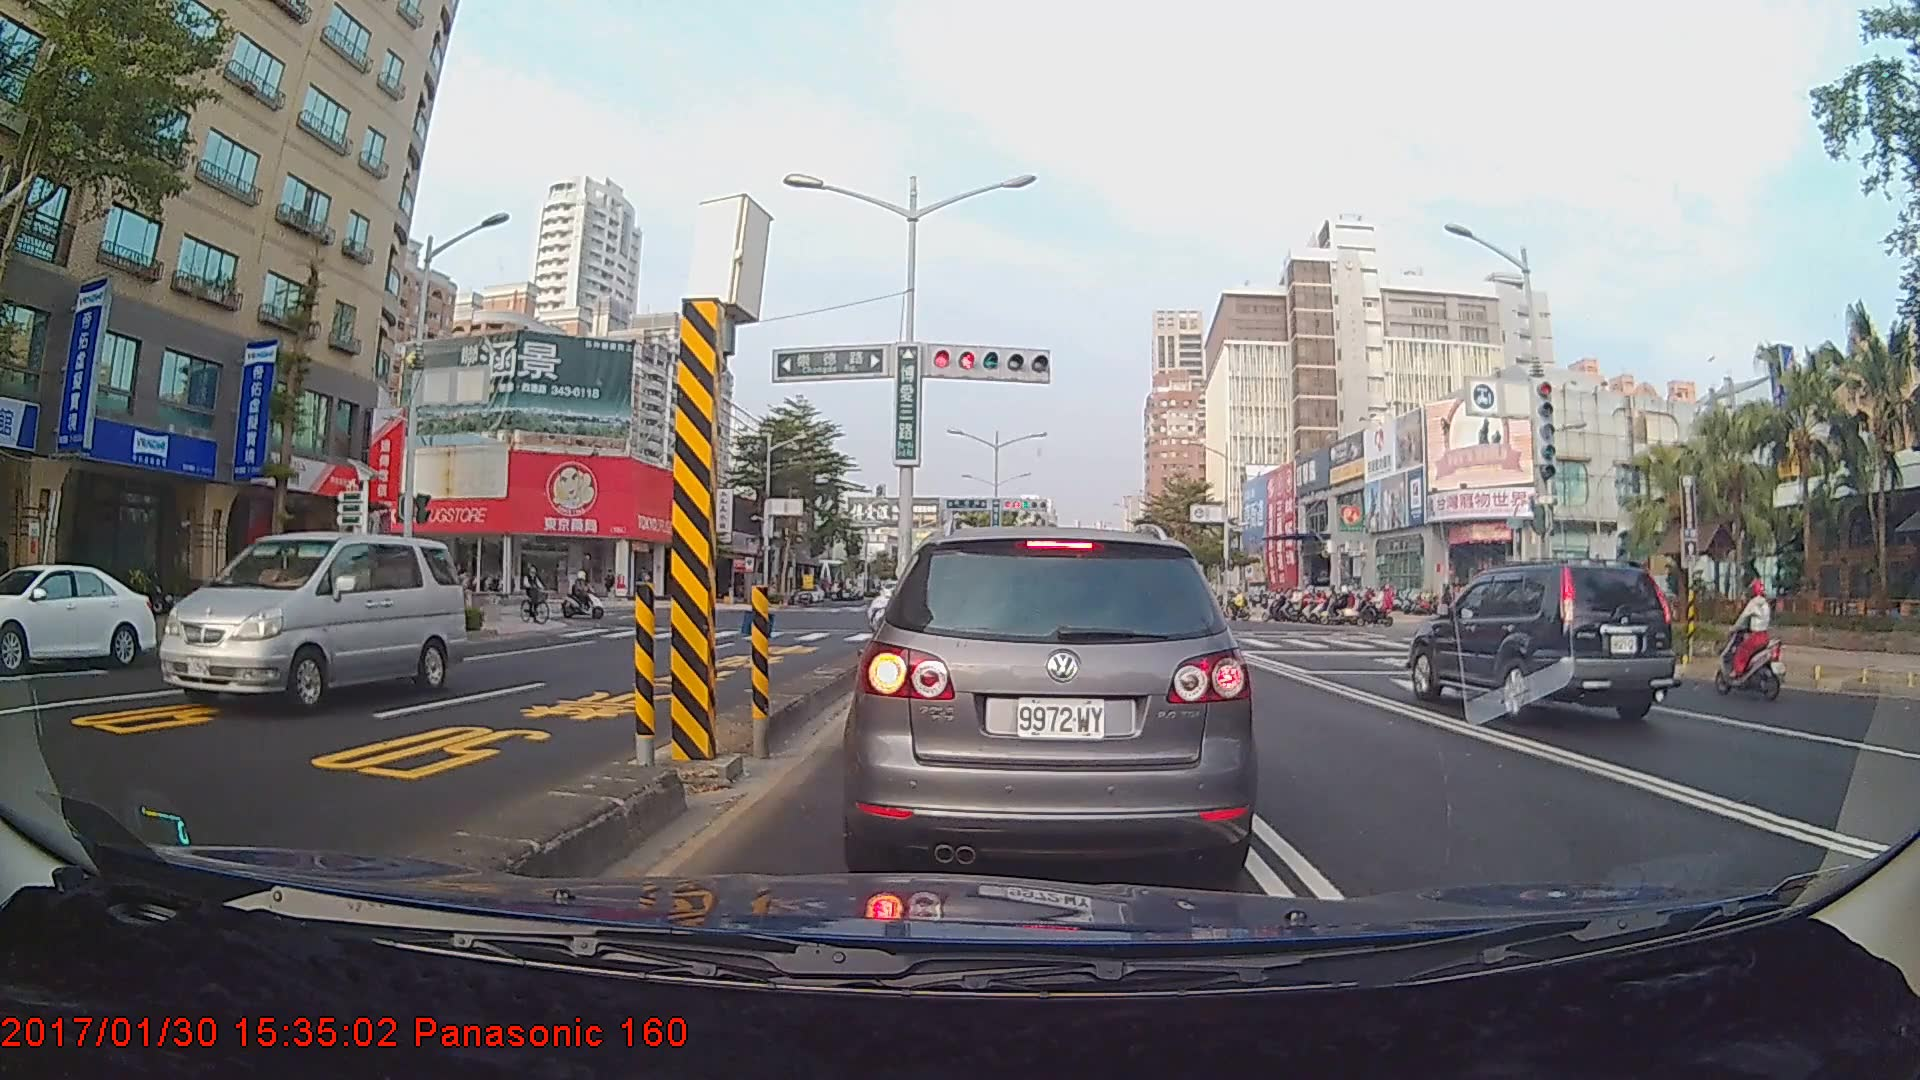rider: (1719, 566, 1792, 703), (562, 566, 609, 619), (522, 566, 551, 627)
vehicle: (846, 518, 1254, 881), (144, 527, 454, 718), (1403, 554, 1680, 730), (0, 562, 157, 676)
